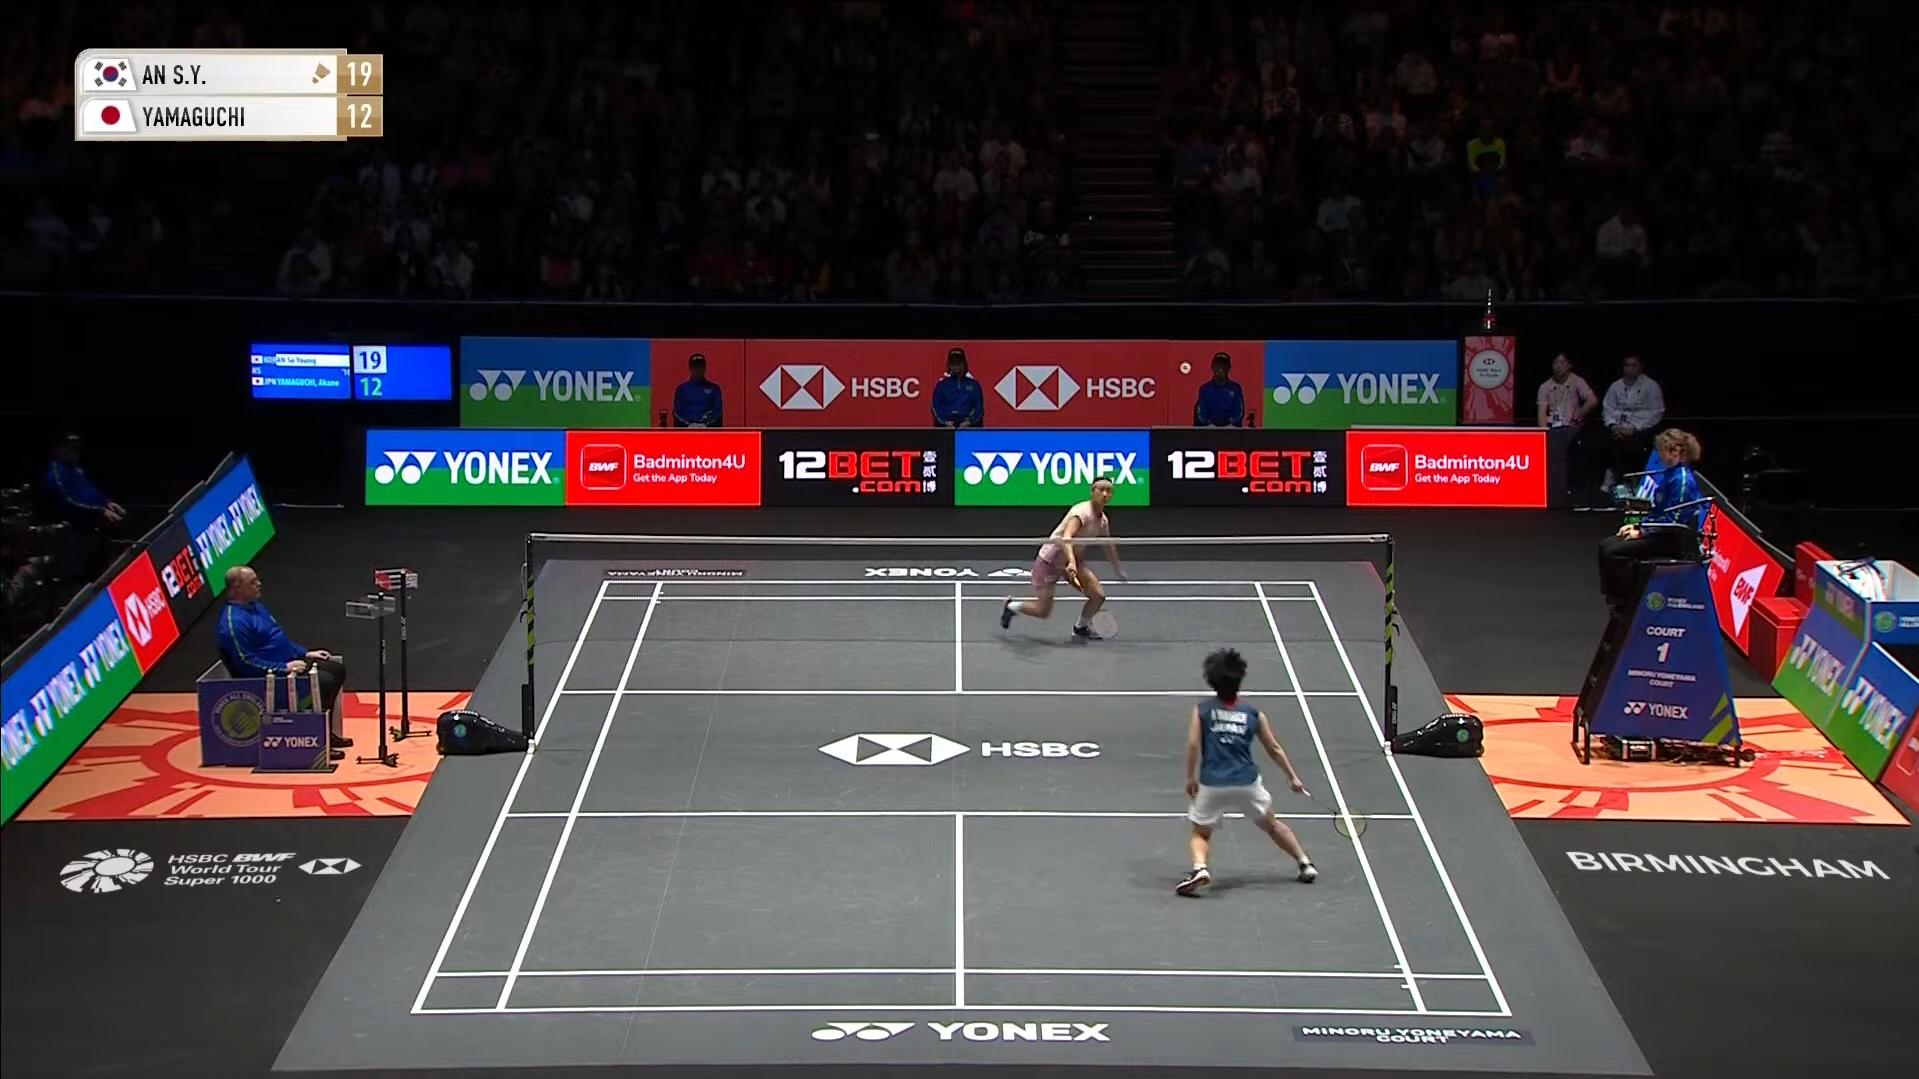shuttle: (1168, 354, 1198, 382)
